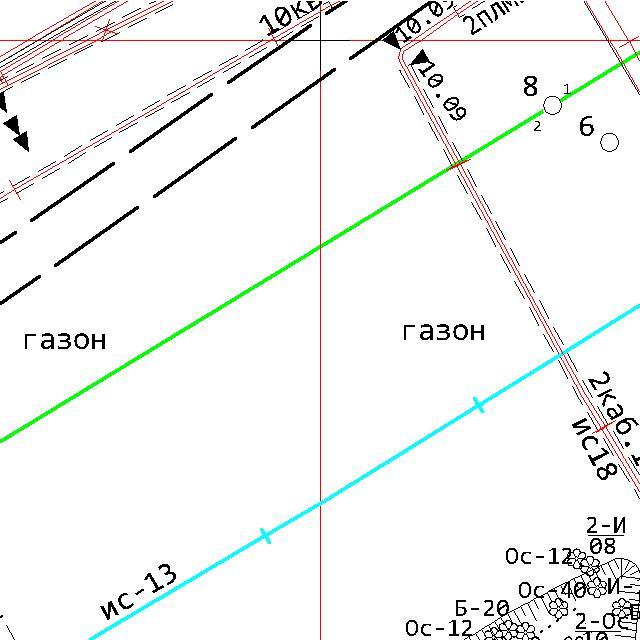bushes: (612, 597, 633, 620), (548, 597, 569, 619), (587, 577, 608, 598), (567, 548, 587, 570), (581, 555, 601, 576)
mark: (1, 114, 21, 136), (13, 130, 31, 153), (381, 31, 401, 50), (409, 48, 430, 66), (0, 90, 9, 114)
well: (542, 94, 563, 116), (599, 132, 620, 153)
